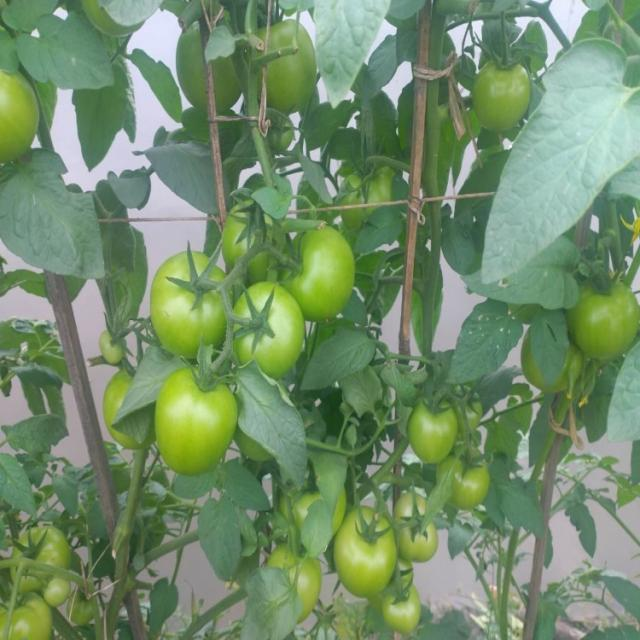tomato: (150, 245, 228, 360), (160, 375, 240, 470), (564, 276, 640, 357), (244, 24, 316, 107), (237, 285, 302, 375), (179, 23, 239, 114), (293, 237, 357, 313), (330, 517, 389, 592), (476, 57, 532, 135), (227, 203, 279, 279), (265, 545, 323, 613), (11, 524, 68, 590), (1, 72, 40, 156), (286, 490, 354, 537), (109, 368, 146, 454), (391, 495, 438, 562), (413, 402, 461, 467), (437, 453, 494, 505), (343, 171, 399, 219), (1, 596, 61, 640), (523, 349, 575, 399), (83, 1, 150, 37), (379, 594, 419, 632), (452, 380, 482, 430), (99, 332, 134, 366), (43, 577, 76, 609), (272, 127, 301, 157), (389, 562, 409, 591)
